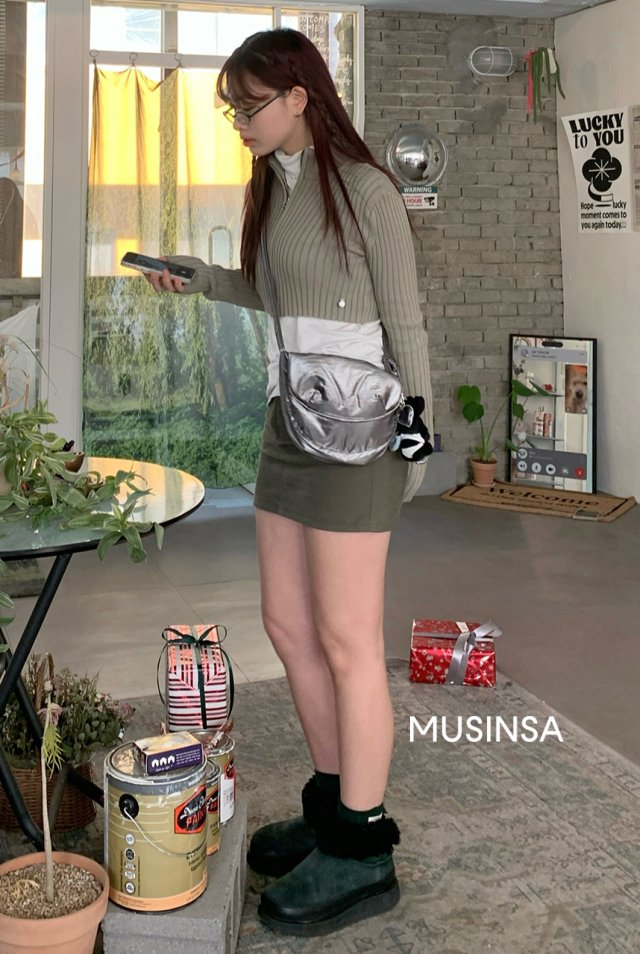Bag: (267, 347, 410, 467)
Boots: (248, 764, 415, 931)
Glasses: (221, 95, 293, 128)
Skirt: (249, 400, 413, 536)
Top: (209, 148, 426, 364)
